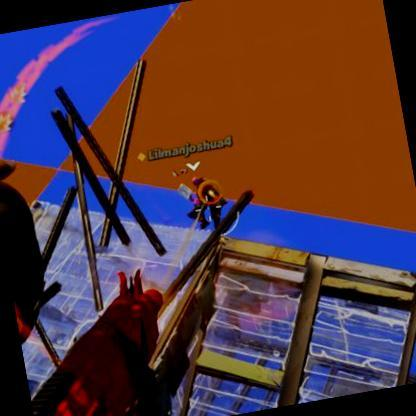person: (178, 172, 229, 230)
